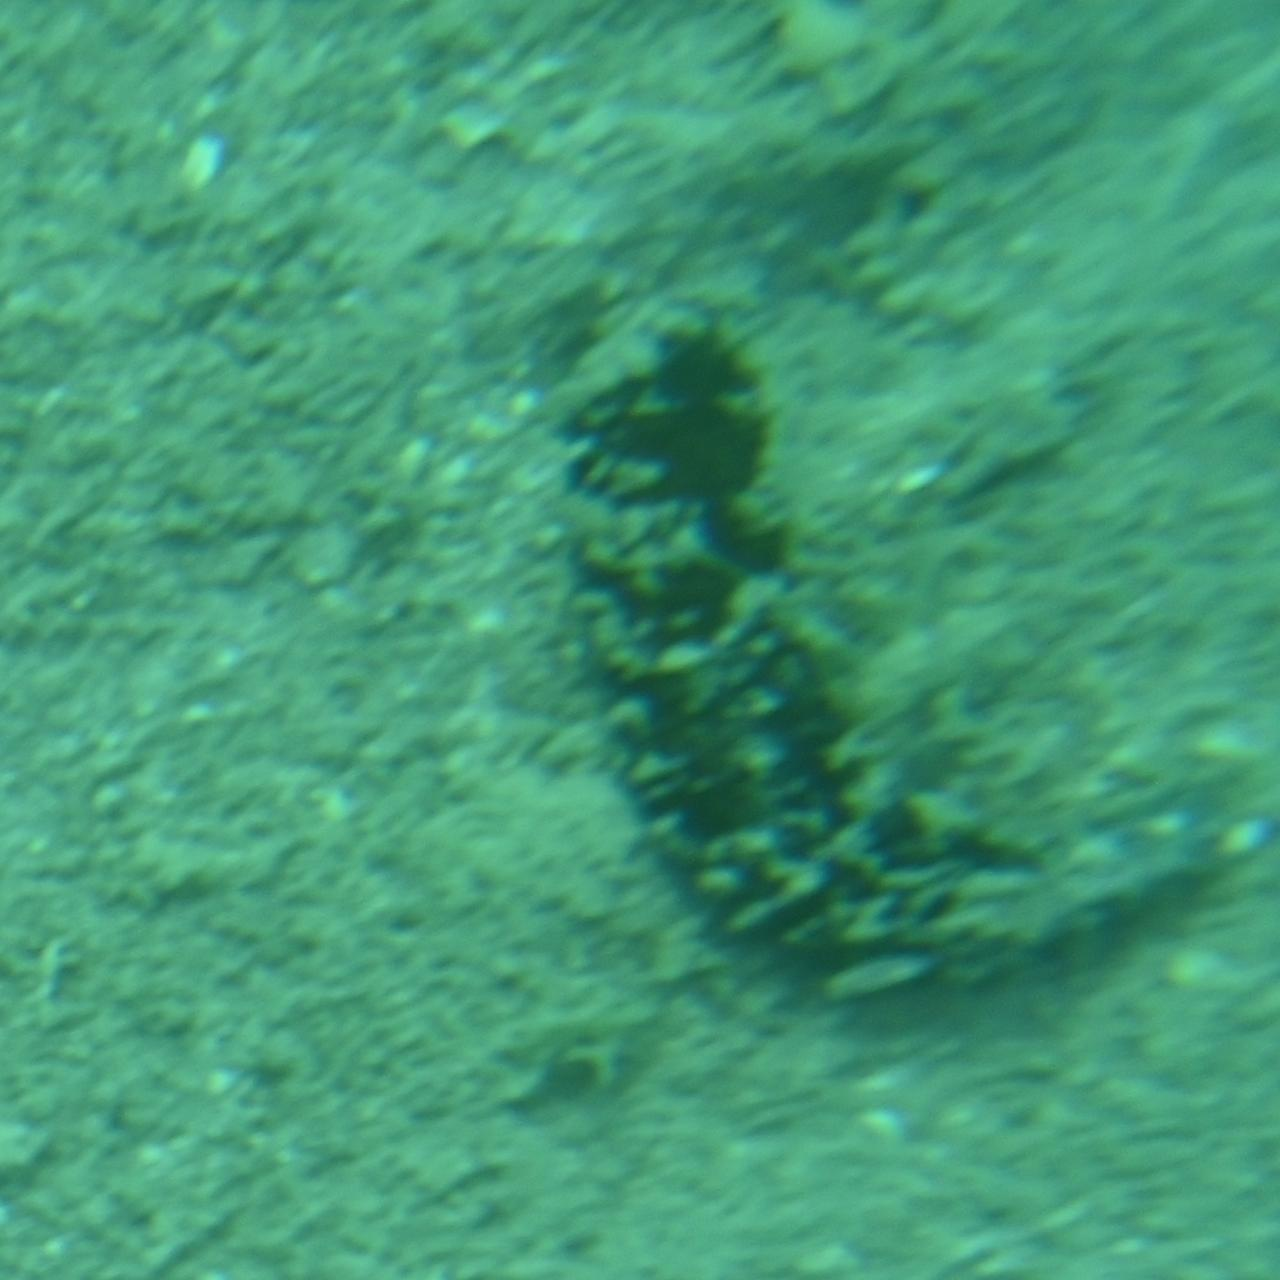Holothuria tubulosa: (536, 263, 1276, 1017)
